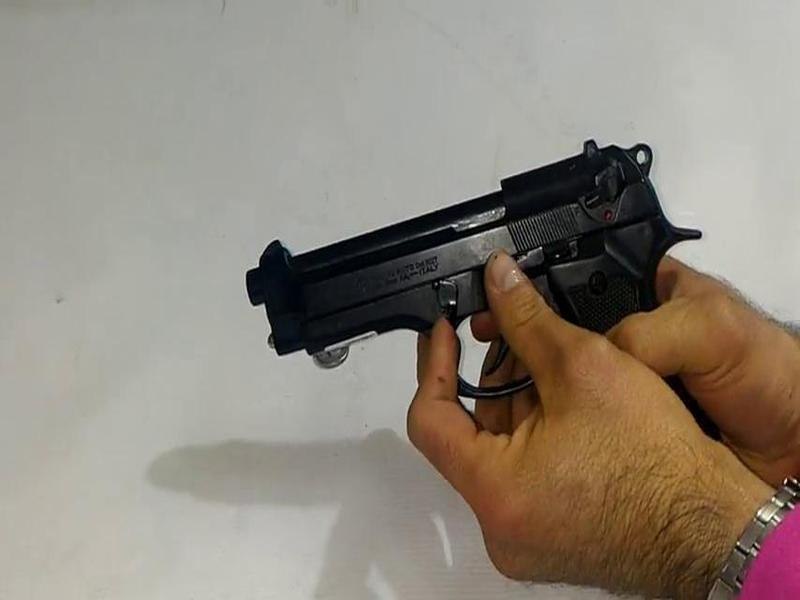Pistola: (236, 131, 724, 445)
